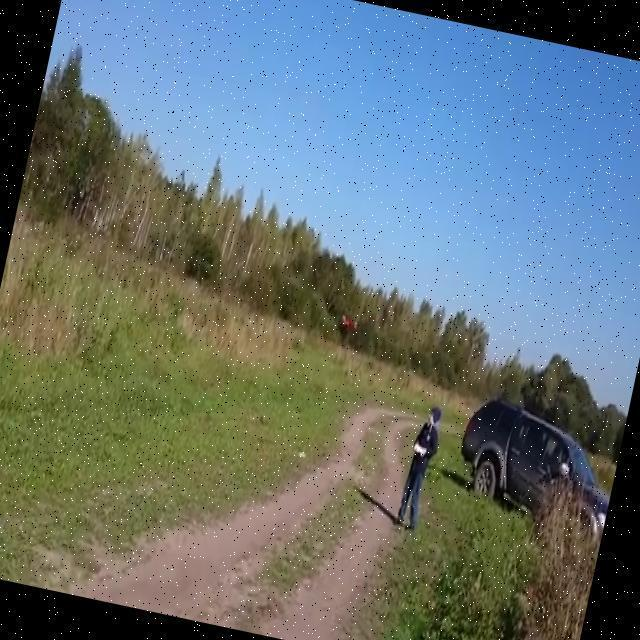Drons: (330, 310, 362, 336)
